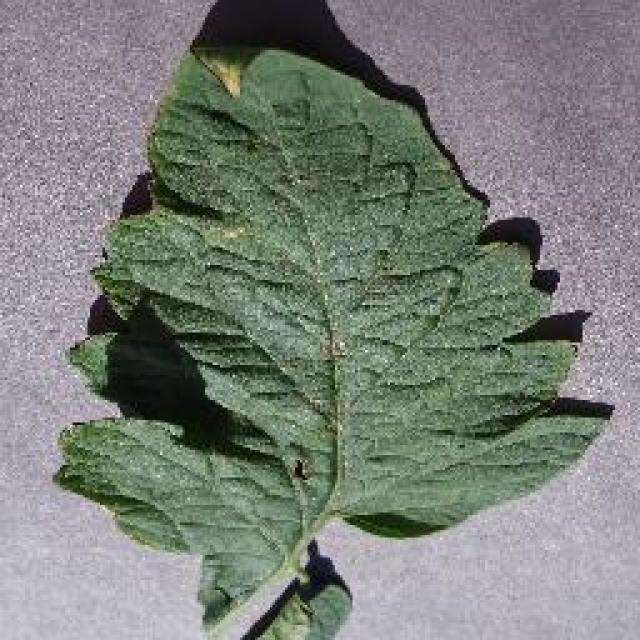Tomato Septoria spot leaf: (56, 39, 612, 631)
